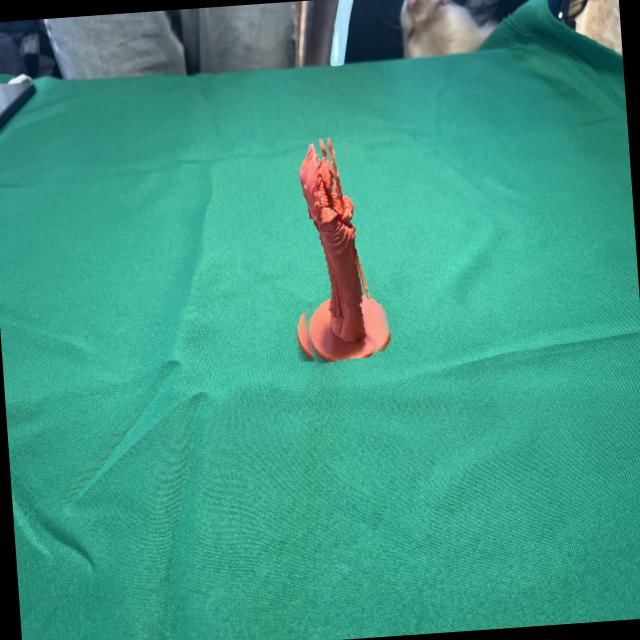amon: (275, 133, 386, 364)
